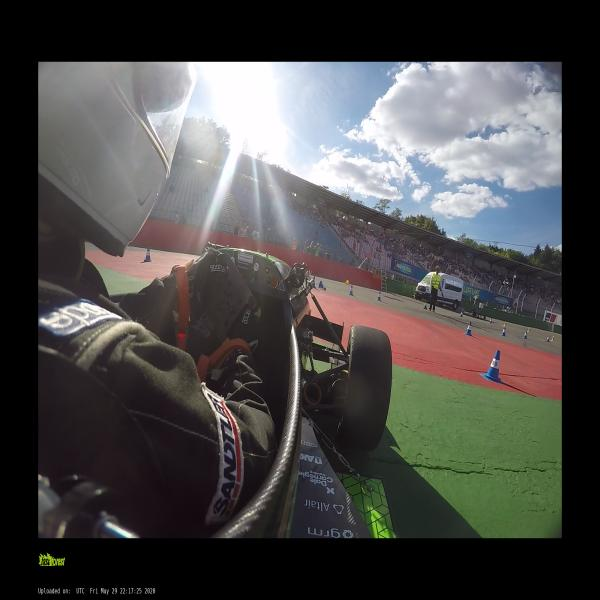blue_cone: (484, 351, 503, 382), (143, 247, 152, 262), (465, 321, 472, 336), (319, 281, 326, 290), (501, 327, 506, 337), (312, 276, 316, 288), (377, 292, 382, 301), (349, 285, 353, 296), (522, 332, 528, 339), (423, 301, 427, 310), (546, 335, 550, 342), (489, 318, 492, 324), (460, 312, 463, 317)
yellow_cone: (526, 327, 530, 333), (345, 280, 349, 285), (503, 322, 506, 328), (551, 336, 554, 342)
